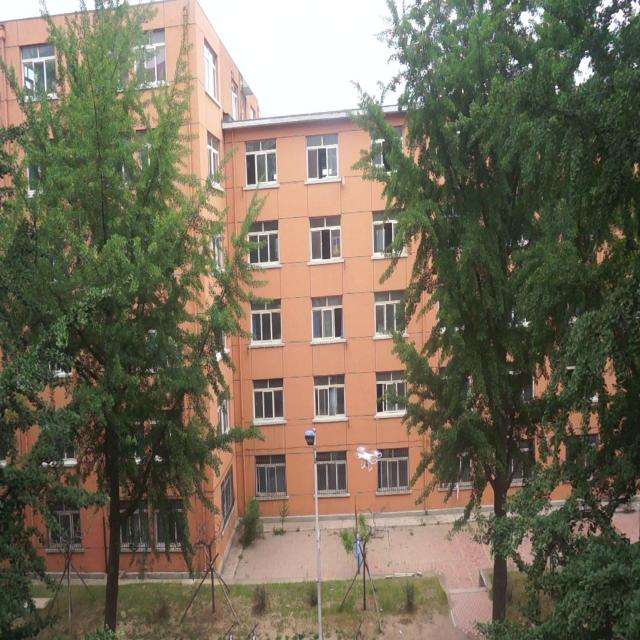drone: (354, 444, 384, 474)
